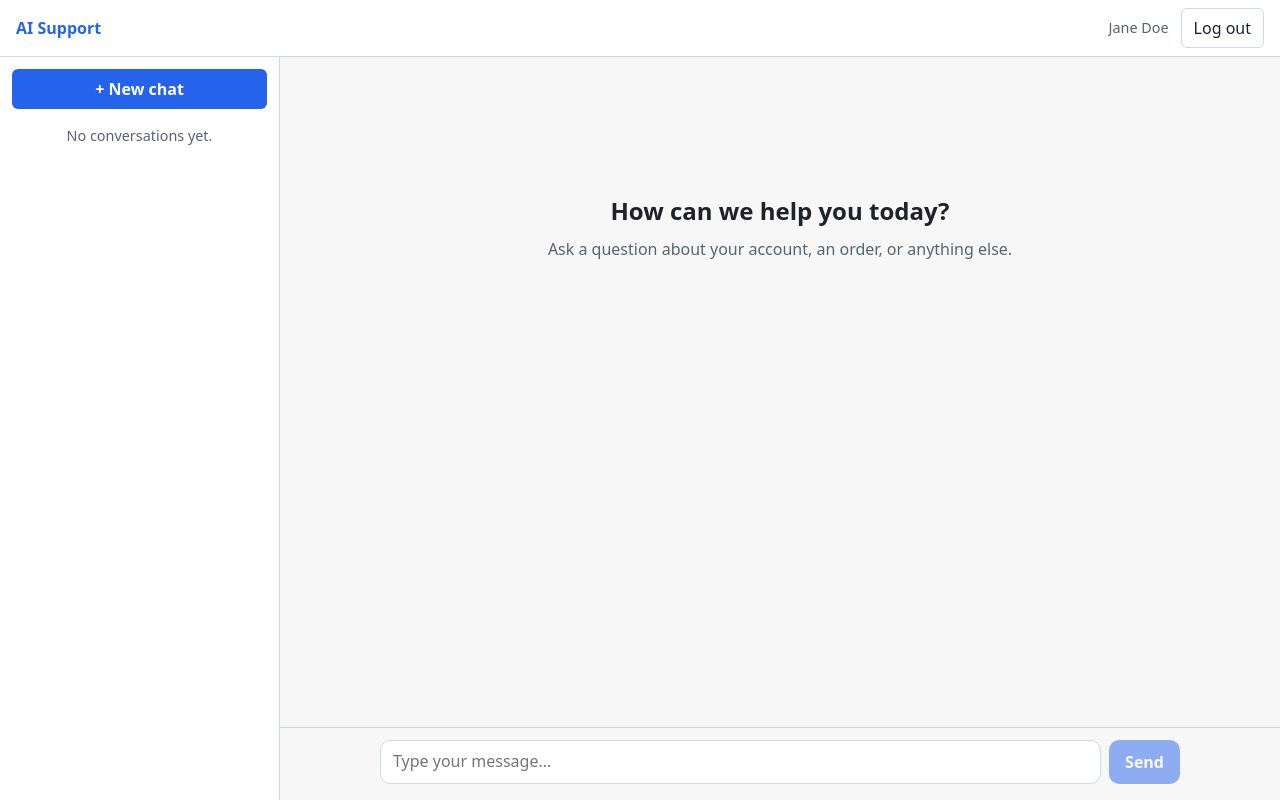
Test: logout and session expiry (UI-07, UI-05) › UI-07: still logs out locally if the logout request fails
The width and height of the screenshot is (1280, 800).
Click the button "Log out" at (1222, 28), box [1181, 8, 1264, 48]
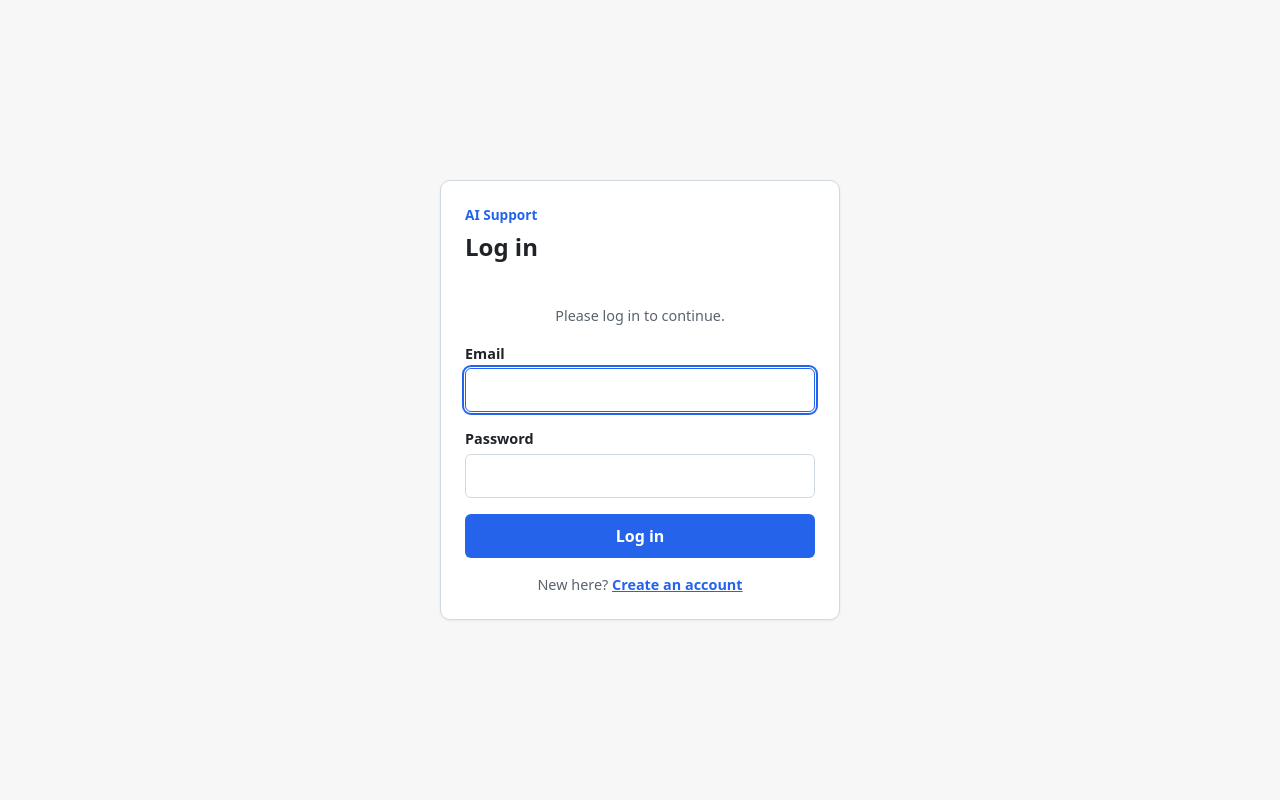
Result: the heading "Log in" is shown at [465, 230, 538, 263]
